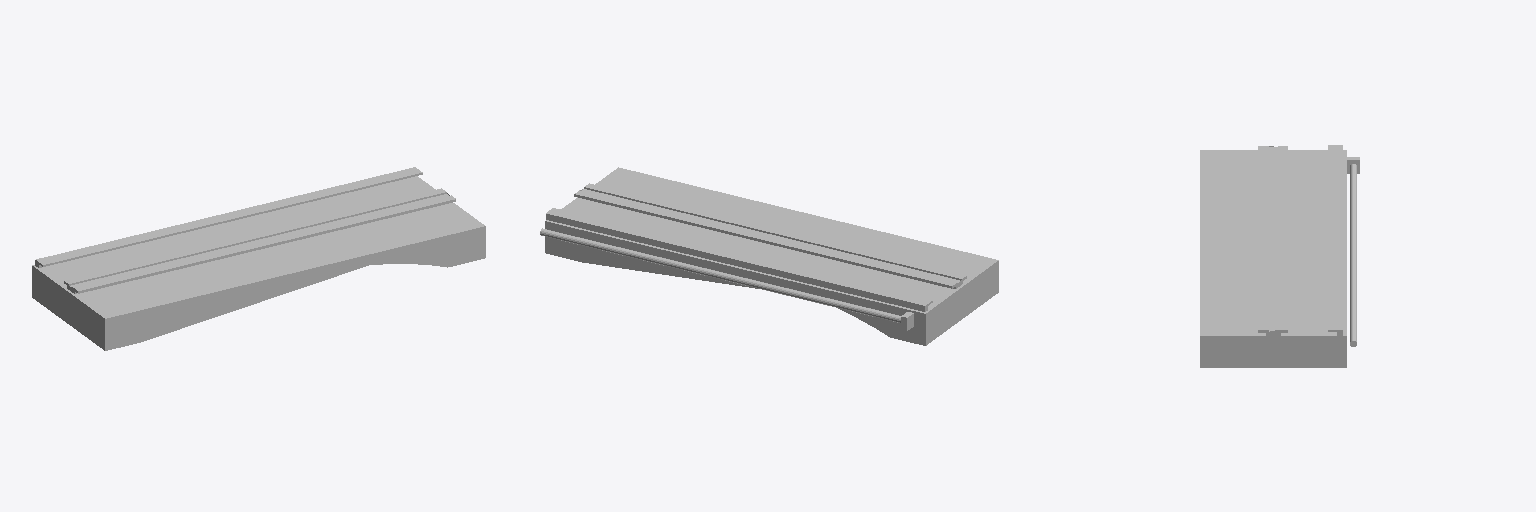
Rendered from Gantry.obj.
3 views of the same model, side by side, from view 1: azimuth 30°, elevation 25°; view 2: azimuth 150°, elevation 25°; view 3: azimuth 270°, elevation 25° (orthographic).
Parts seen in each view (by area): view 1: Gantry; view 2: Gantry; view 3: Gantry.
Boxes of the visible parts, <box> form: Gantry: <box>32,167,485,350</box>; Gantry: <box>540,167,998,345</box>; Gantry: <box>1200,145,1359,367</box>.
Size of the model in its own units: 3 by 0.2895 by 1.09.